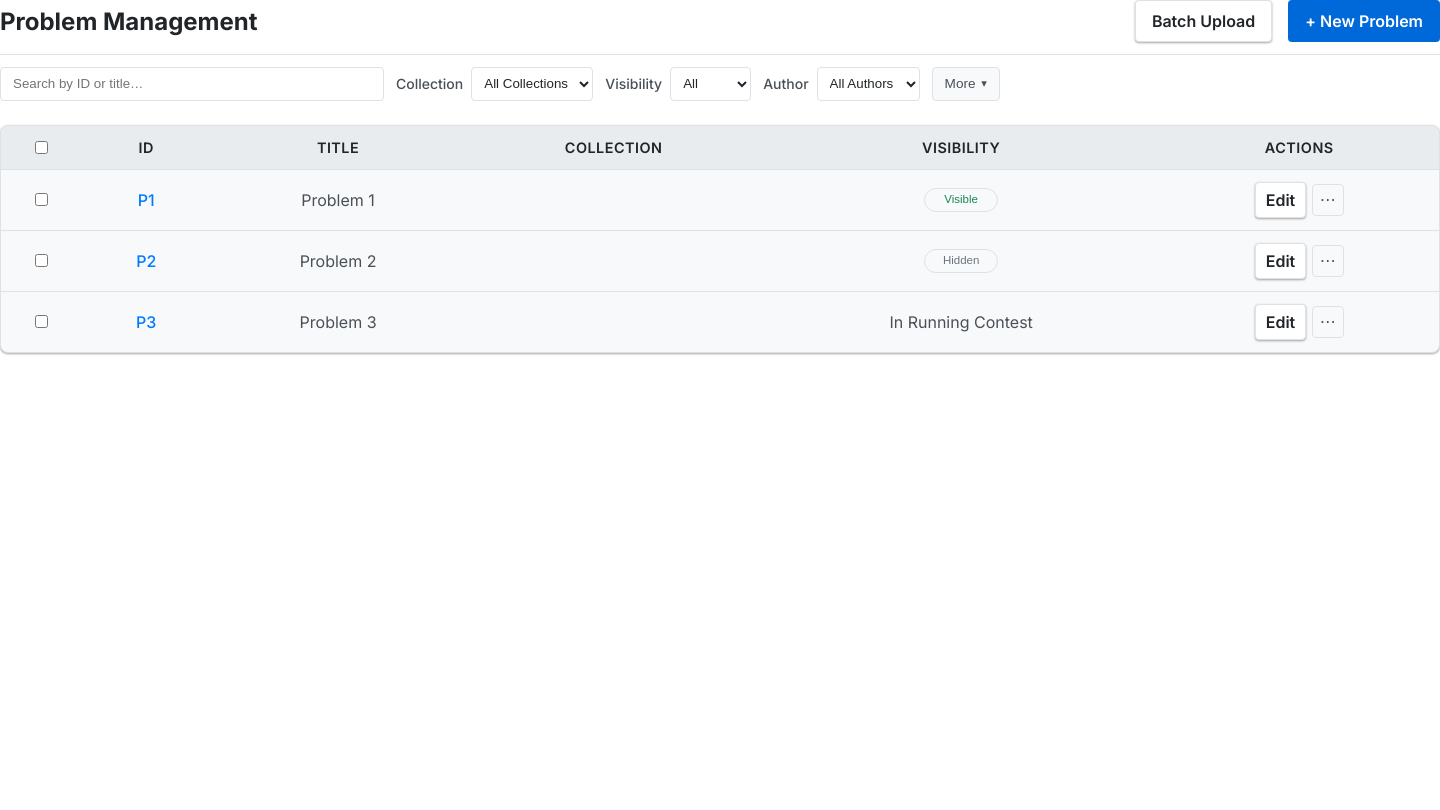
ProblemManagement Component › deletes selected problems together after confirmation and refreshes the first page
expect the text "Problem 2" is shown: met, box [212,230,465,291]
Step 1. Click the checkbox named "Select problem P1" → point(42, 199), box [35,193,48,206]
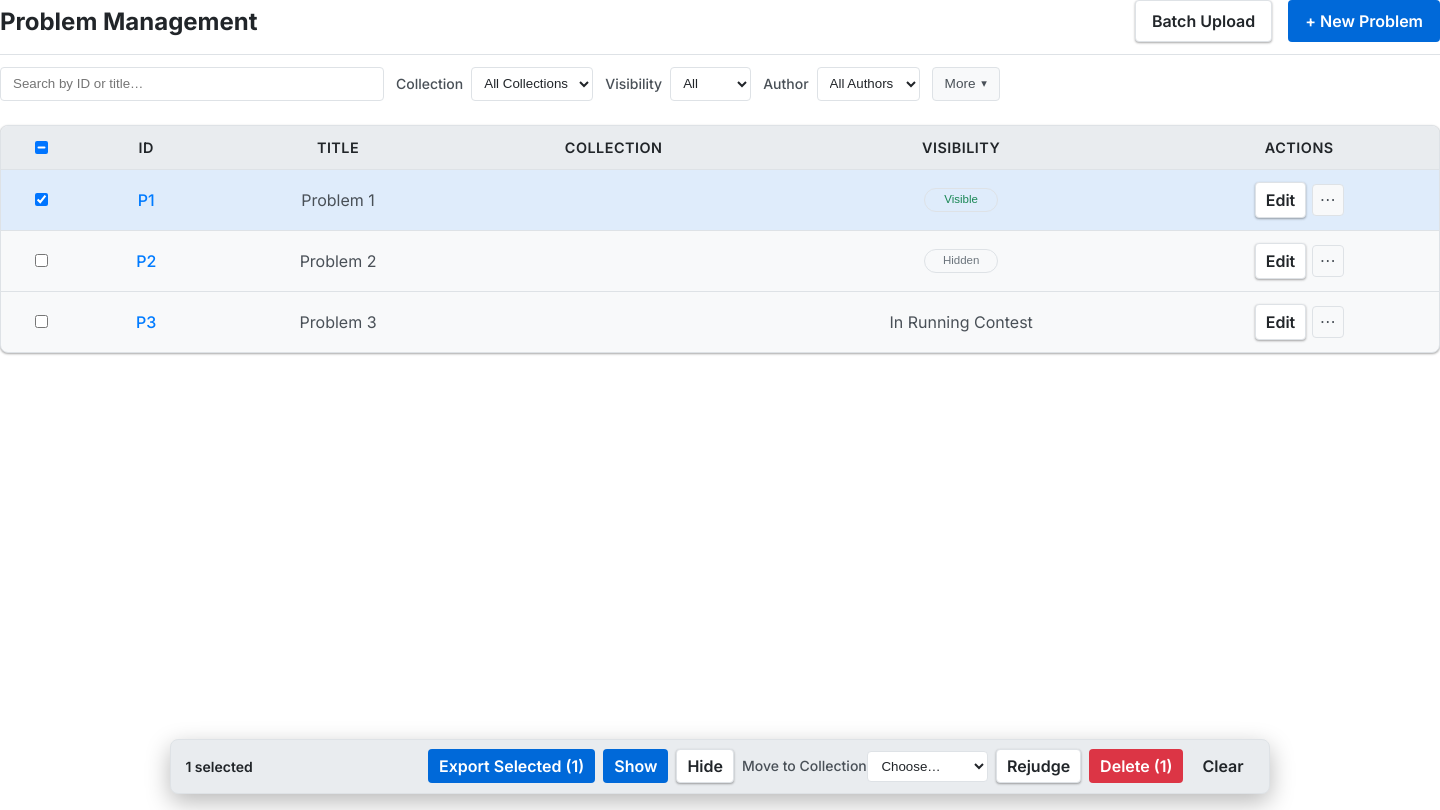
Step 2. Click the checkbox named "Select problem P2" → point(42, 260), box [35,254,48,267]
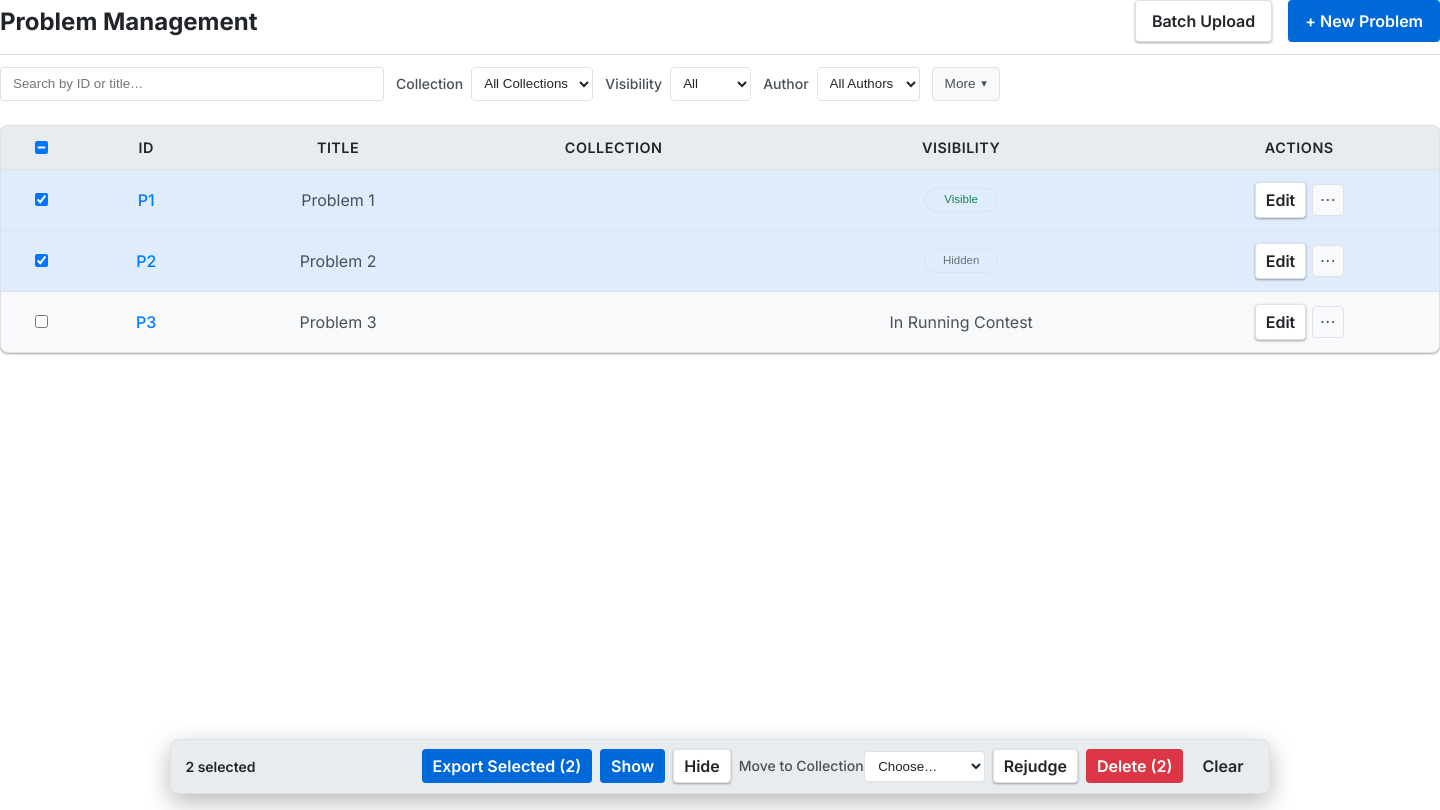
Step 3. Click the button "Delete (2)" → point(1135, 766), box [1086,749,1184,783]
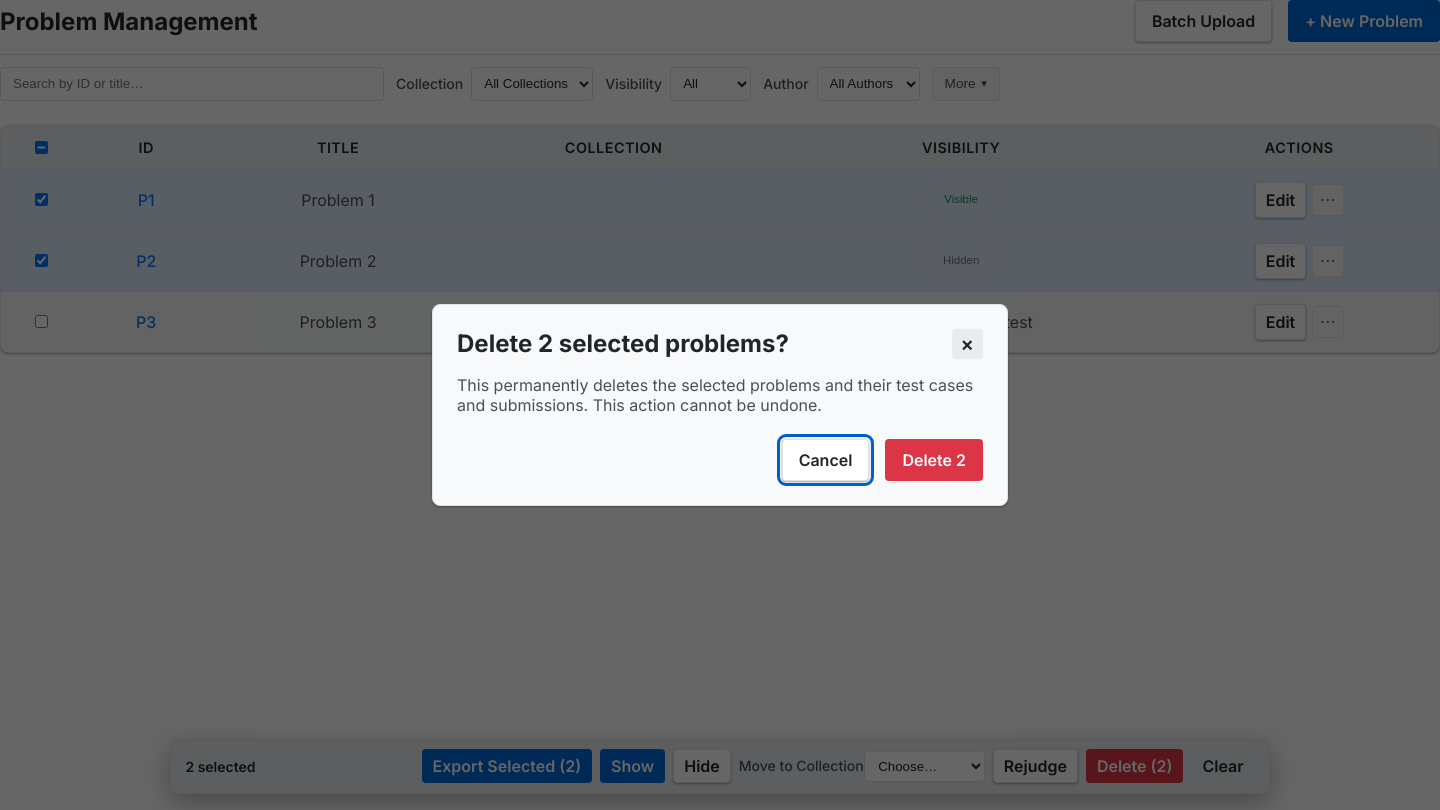
expect the text "permanently deletes the selected problems" is shown: met, box [457,375,973,415]
Step 4. Click the button "Delete 2" → point(934, 460), box [885,439,983,481]
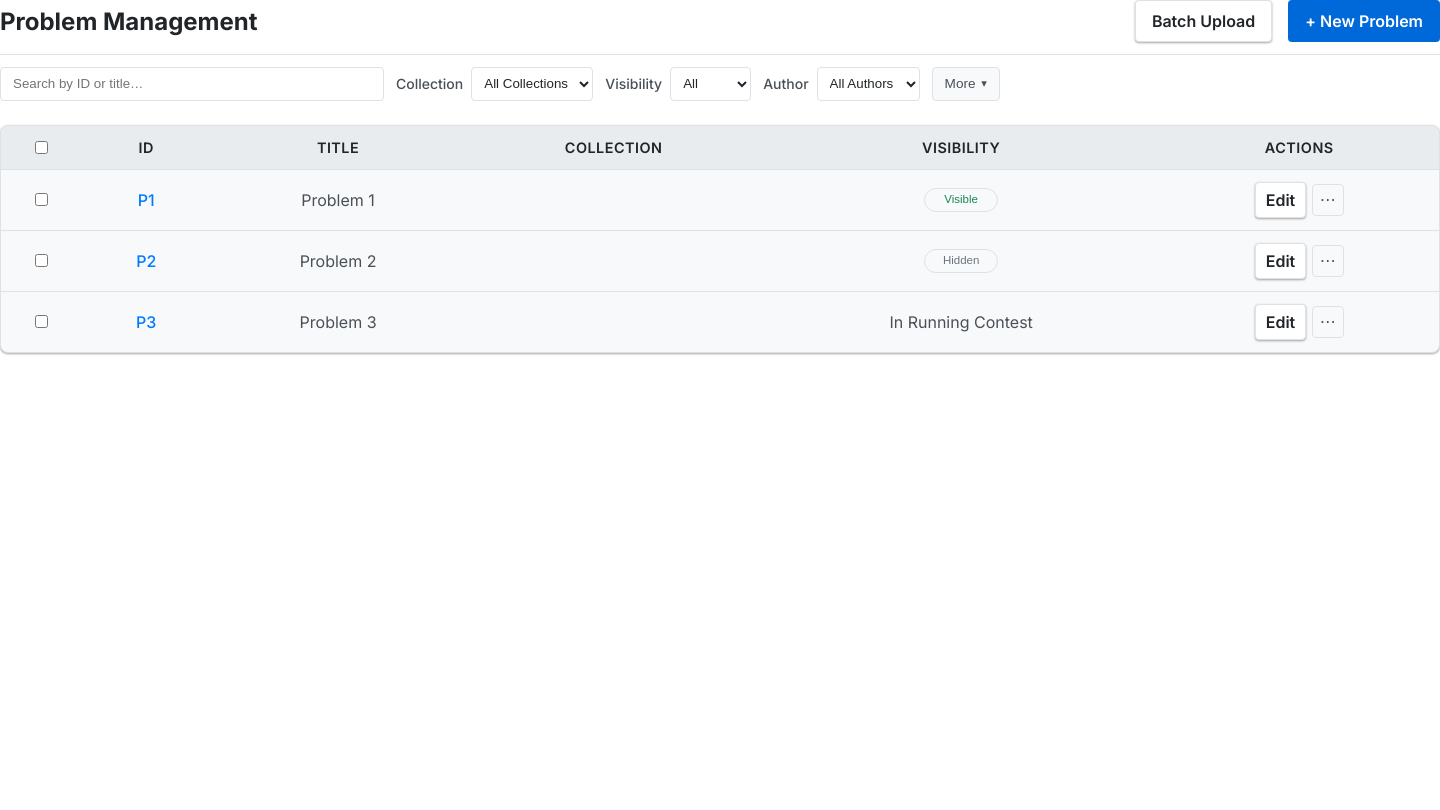
expect the text "2 selected" is gone: met
